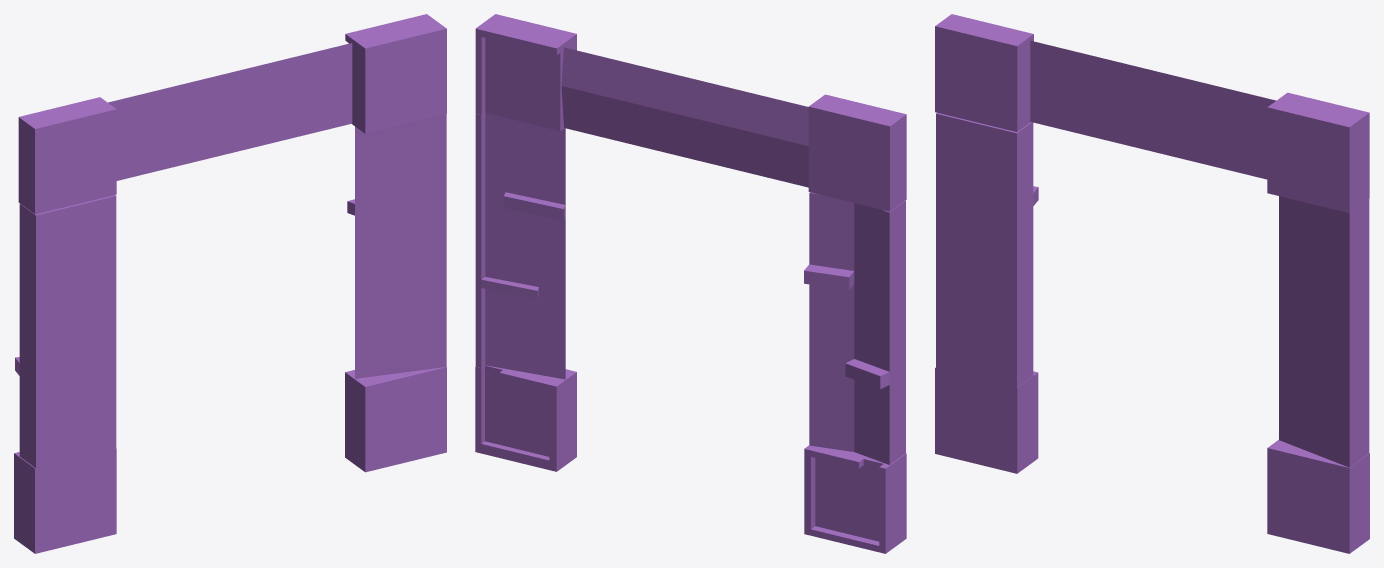
The model's file is Stage4.fbx.
The picture shows the model from 3 angles, left to right: view 1: azimuth 30°, elevation 25°; view 2: azimuth 150°, elevation 25°; view 3: azimuth 330°, elevation 25°; orthographic projection.
Visible parts, largest first — view 1: Cube; view 2: Cube; view 3: Cube.
Part boxes in pixels (x1,y1,x2,y2): Cube: [14, 14, 446, 553]; Cube: [475, 14, 906, 553]; Cube: [935, 14, 1369, 553].
Size of the model in its own units: 1009 by 995 by 102.
